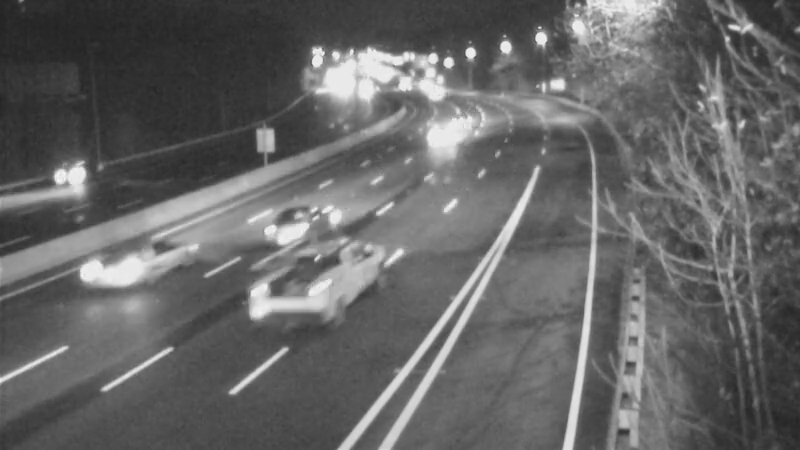vehicle: (267, 179, 347, 259), (250, 244, 330, 324), (73, 227, 153, 307), (25, 136, 105, 216), (408, 71, 458, 121), (433, 95, 483, 145), (416, 110, 466, 160)
